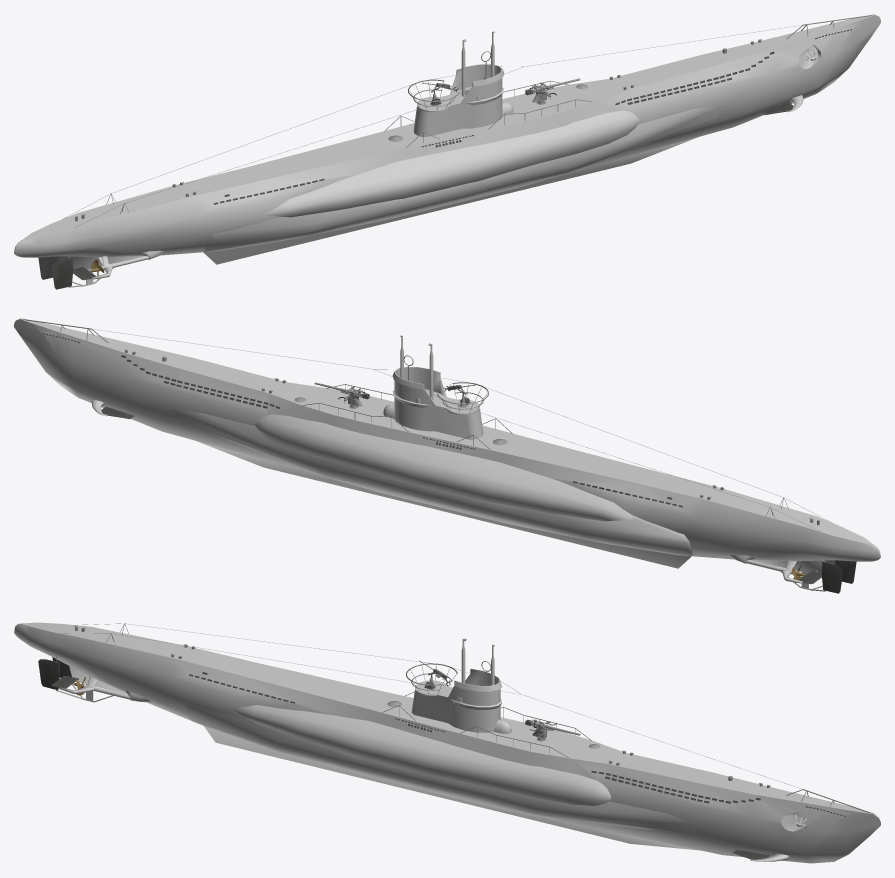
3 views of the same model, one above another, from view 1: azimuth 30°, elevation 25°; view 2: azimuth 150°, elevation 25°; view 3: azimuth 330°, elevation 25° (orthographic).
Parts seen in each view (by area): view 1: U-557_Hull_2, MetalProps_7, U-557_Hull.001_8, U_557_Hull_Cable_6, U-557_Rudder_R_15; view 2: U-557_Hull_2, MetalProps_7, U-557_Hull.001_8, U_557_Hull_Cable_6, U-557_Rudder_L_14; view 3: U-557_Hull_2, MetalProps_7, U-557_Hull.001_8, U_557_Hull_Cable_6, U-557_Rudder_R_15.
Boxes of the visible parts, x1,y1,x2,y2 form: U-557_Hull_2: (14,14,880,287); MetalProps_7: (74,15,872,221); U-557_Hull.001_8: (213,29,851,204); U_557_Hull_Cable_6: (62,25,802,227); U-557_Rudder_R_15: (51,252,73,289); U-557_Hull_2: (14,318,880,591); MetalProps_7: (22,319,820,525); U-557_Hull.001_8: (43,333,682,507); U_557_Hull_Cable_6: (92,329,832,531); U-557_Rudder_L_14: (821,556,843,593); U-557_Hull_2: (14,622,880,863); MetalProps_7: (74,623,873,813); U-557_Hull.001_8: (189,672,845,816); U_557_Hull_Cable_6: (62,623,802,789); U-557_Rudder_R_15: (38,656,59,690).
Bounding box in the file's own units: 67.15 × 12.22 × 6.77.
